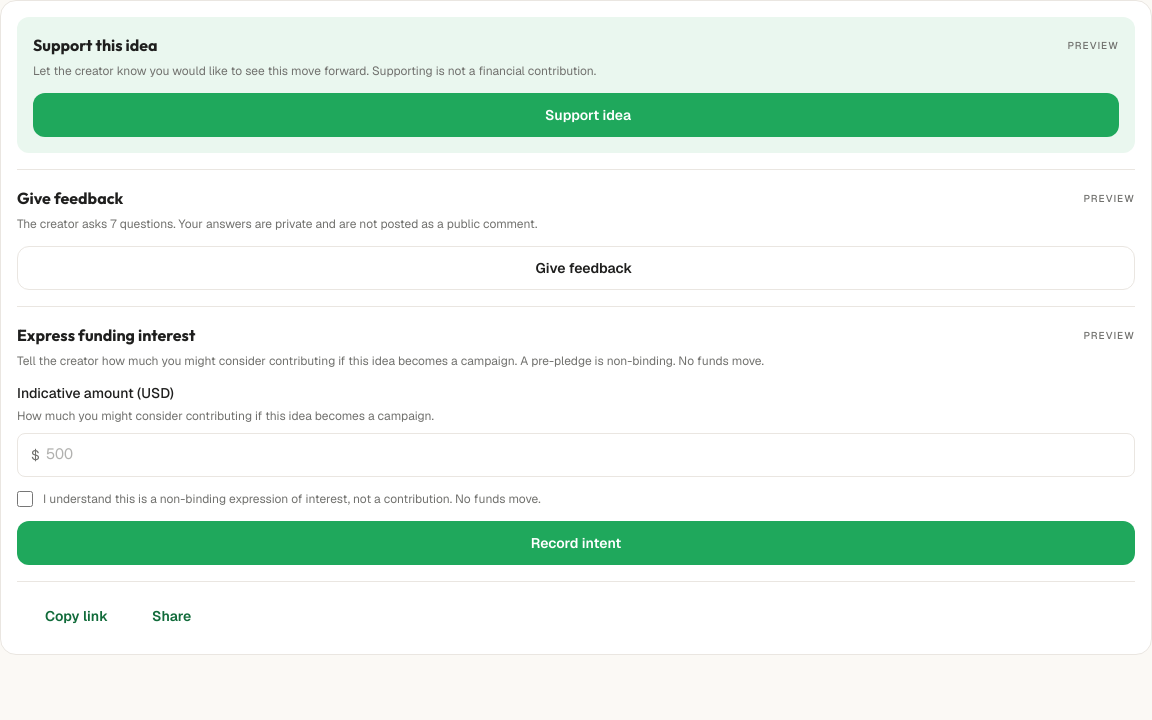
Test: IdeaActions › keeps support reversible with a clear pressed state
The image size is (1152, 720).
Step 1. Click the button "Support idea" → [576, 115], box x1=33 y1=93 x2=1119 y2=137
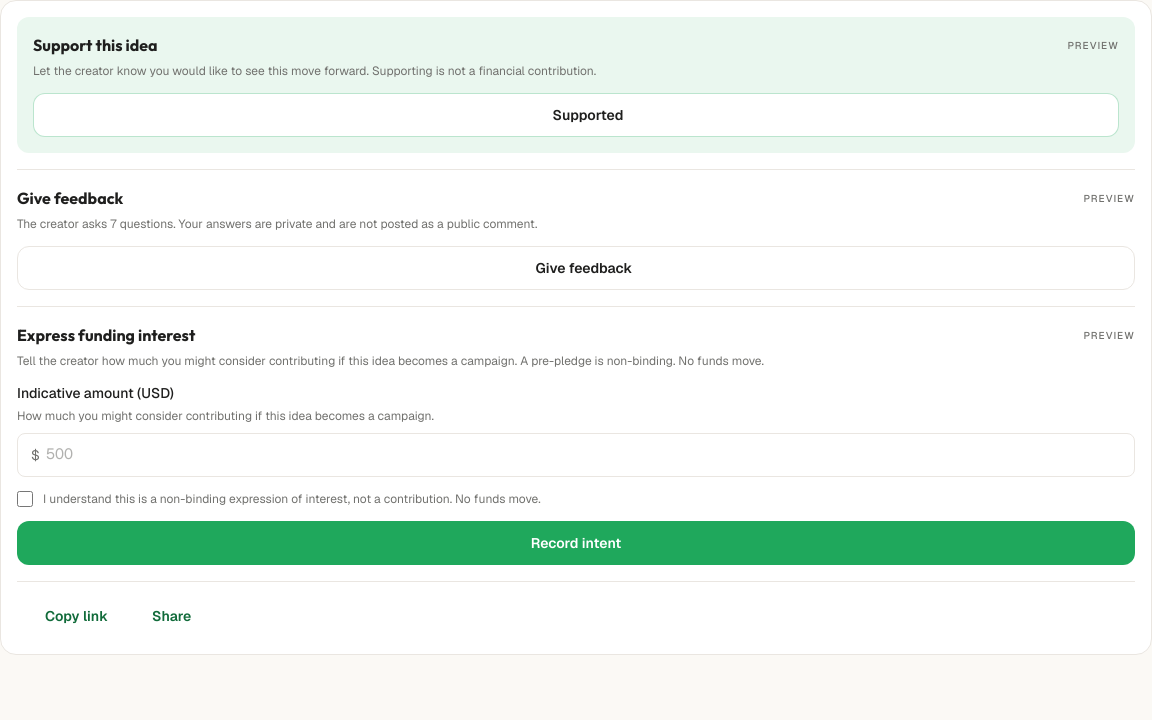
Expected: the button "Supported" is pressed
Step 2. Click the button "Supported" → [576, 115], box x1=33 y1=93 x2=1119 y2=137
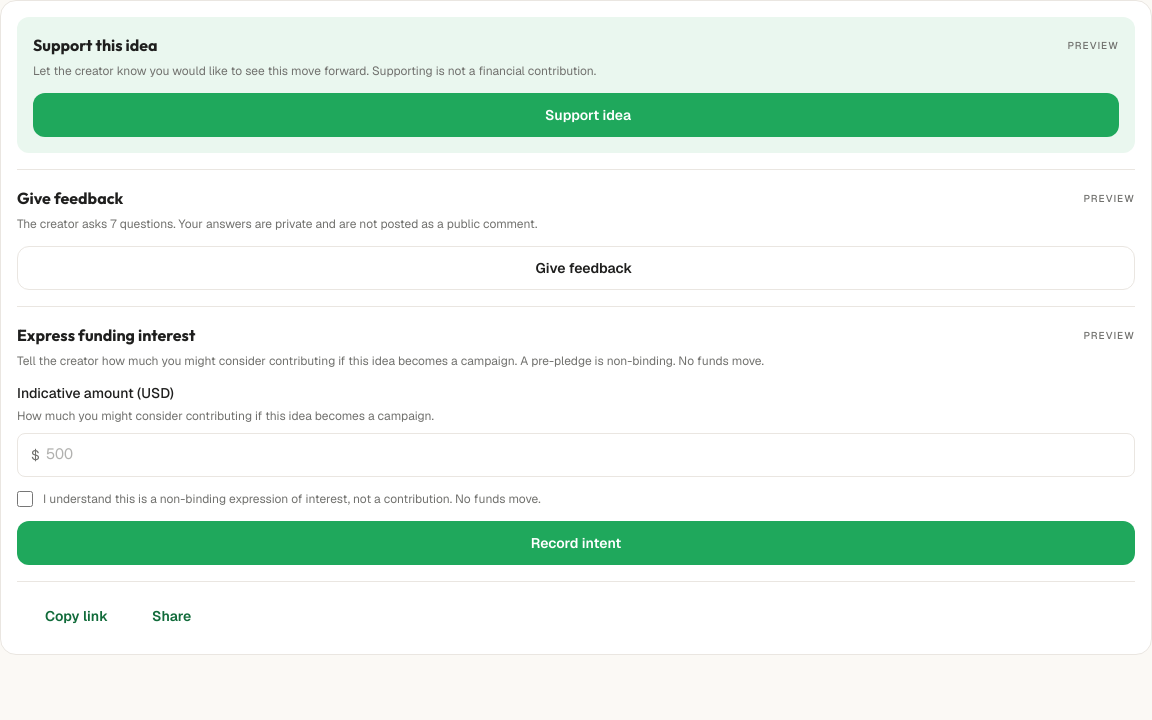
Expected: the button "Support idea" is shown, x1=33 y1=93 x2=1119 y2=137
